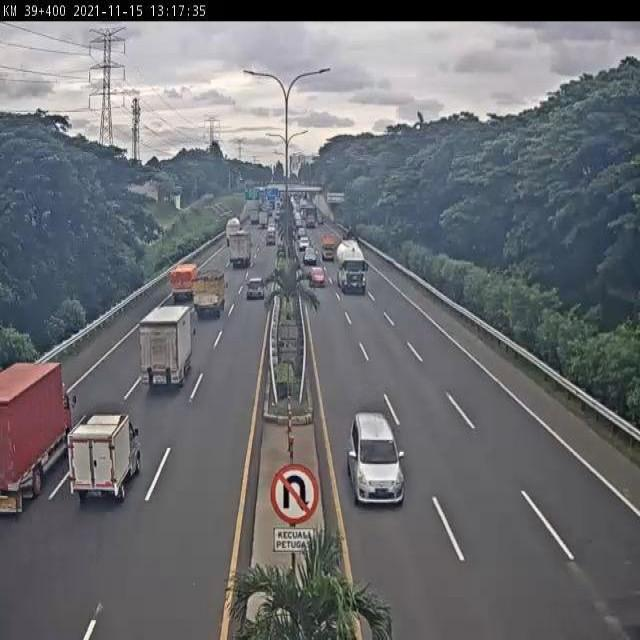car: (346, 412, 408, 507), (245, 276, 266, 303), (308, 263, 326, 285)
truck-l-: (333, 240, 369, 297)
truck-m-: (0, 356, 74, 511), (140, 305, 194, 392), (189, 268, 227, 319), (169, 261, 199, 307)
truck-s-: (66, 411, 143, 506)
